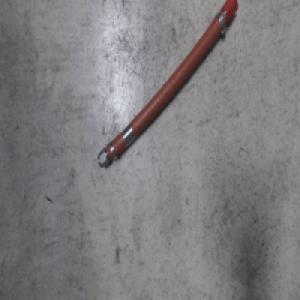Hose: (95, 0, 237, 172)
